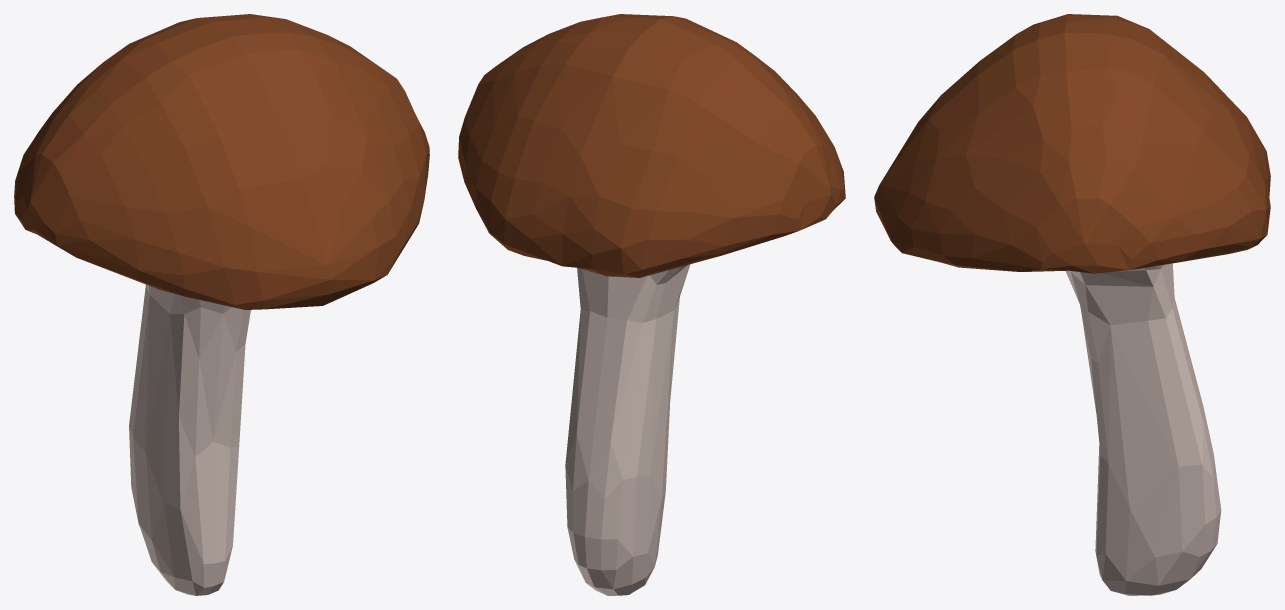
The model's file is Mushroom.fbx.
3 views of the same model, side by side, from view 1: azimuth 30°, elevation 25°; view 2: azimuth 150°, elevation 25°; view 3: azimuth 270°, elevation 25° (orthographic). The views are drawn at different scales.
Parts seen in each view (by area): view 1: Mushroom; view 2: Mushroom; view 3: Mushroom.
Part boxes in pixels (x1,y1,x2,y2): Mushroom: (14,14,429,595); Mushroom: (458,14,845,595); Mushroom: (874,14,1270,595).
Bounding box in the file's own units: 92.35 × 132 × 84.96.
